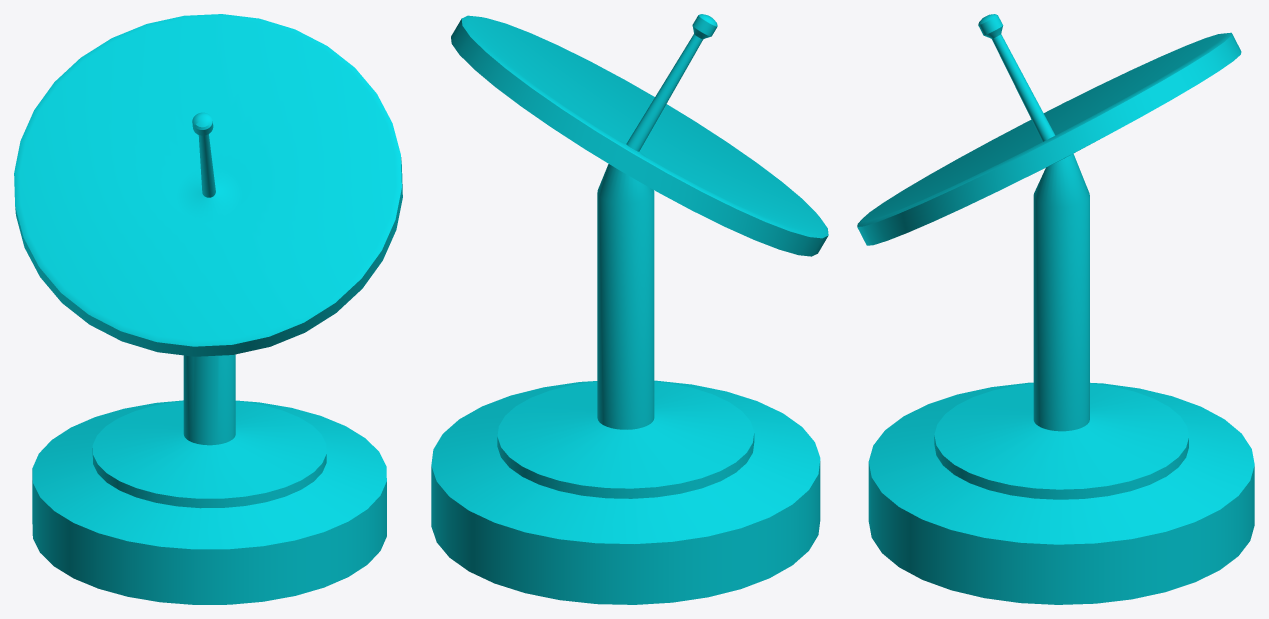
The model's file is emitter.glb.
3 renders of one model, left to right at view 1: azimuth 30°, elevation 25°; view 2: azimuth 150°, elevation 25°; view 3: azimuth 270°, elevation 25°, orthographic. The views are drawn at different scales.
Visible parts, largest first — view 1: Emitter; view 2: Emitter; view 3: Emitter.
Boxes of the visible parts, box(x1,y1,x2,y2) form: Emitter: box(14, 14, 402, 604); Emitter: box(431, 14, 828, 604); Emitter: box(857, 14, 1254, 604).
Bounding box in the file's own units: 1.47 × 1.98 × 1.44.
